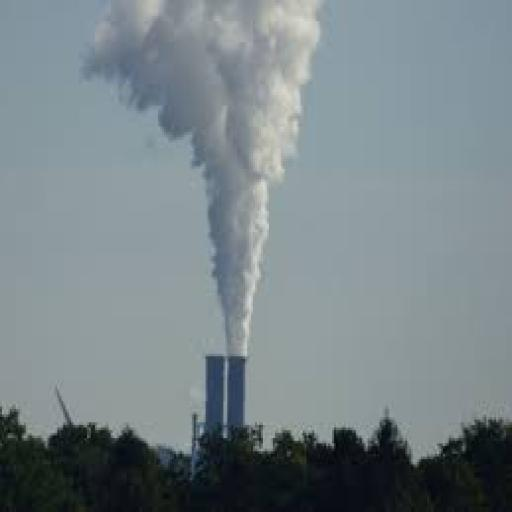smoke: (154, 2, 314, 354)
